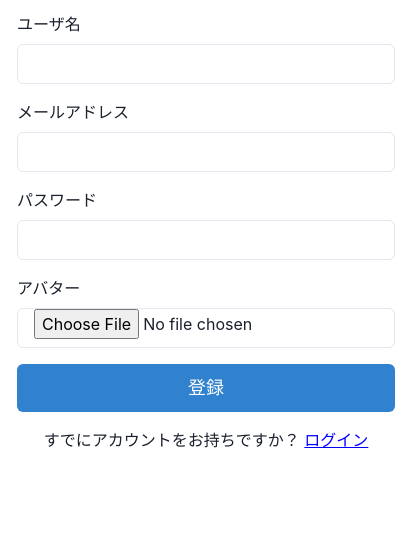
Scenario: SignupForm › バリデーションエラーが正しく表示される
// 登録ボタンをクリック
Step 1. Click the button "登録" → [206, 388], box [17, 364, 395, 412]
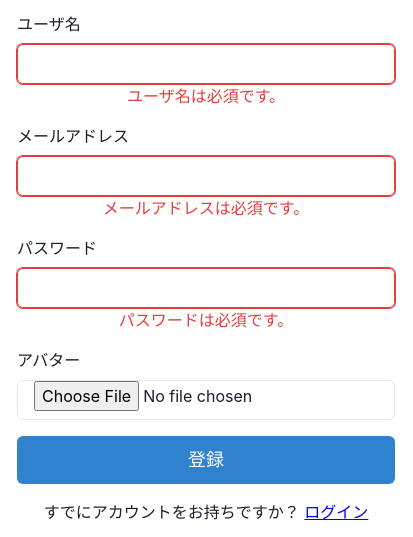
Expected: the text "ユーザ名は必須です。" is shown, [127, 86, 285, 106]
Expected: the text "メールアドレスは必須です。" is shown, [103, 198, 309, 218]
Expected: the text "パスワードは必須です。" is shown, [119, 310, 293, 330]
